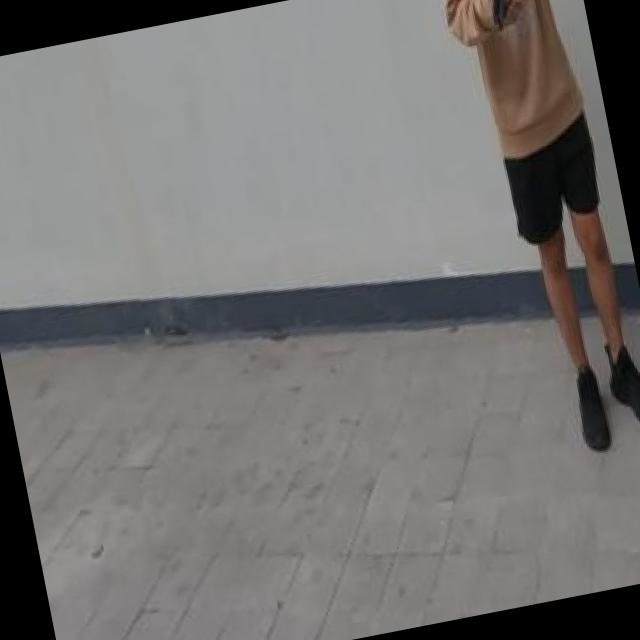Guns: (471, 0, 534, 47)
